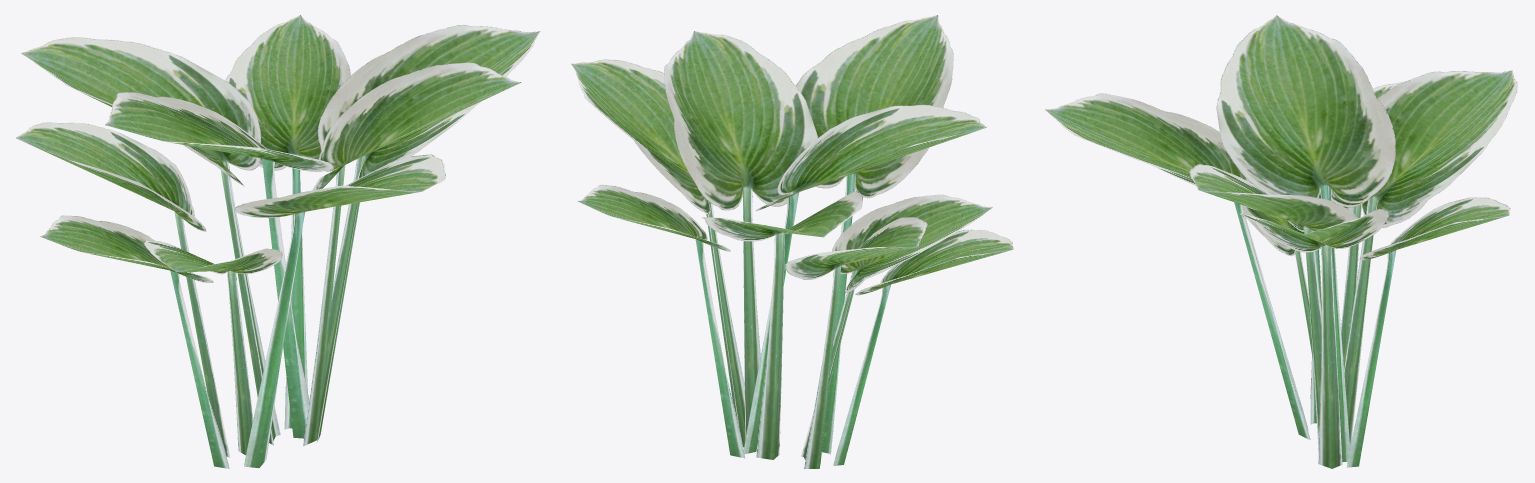
Rendered from plant_small_wg_05H.fbx.
3 views of the same model, side by side, from view 1: azimuth 30°, elevation 25°; view 2: azimuth 150°, elevation 25°; view 3: azimuth 270°, elevation 25° (orthographic). The views are drawn at different scales.
Parts seen in each view (by area): view 1: plant_small_wg_05H; view 2: plant_small_wg_05H; view 3: plant_small_wg_05H.
Boxes of the visible parts, x1,y1,x2,y2 form: plant_small_wg_05H: (16,15,540,468); plant_small_wg_05H: (571,15,1013,468); plant_small_wg_05H: (1045,15,1517,468).
Bounding box in the file's own units: 54.41 × 40.88 × 50.89.
